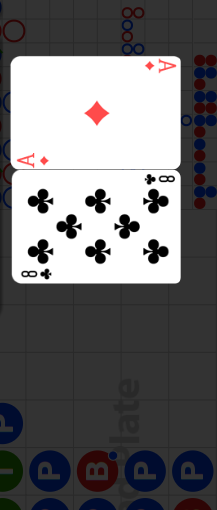8C: (20, 266, 54, 280)
AD: (142, 59, 176, 75)
